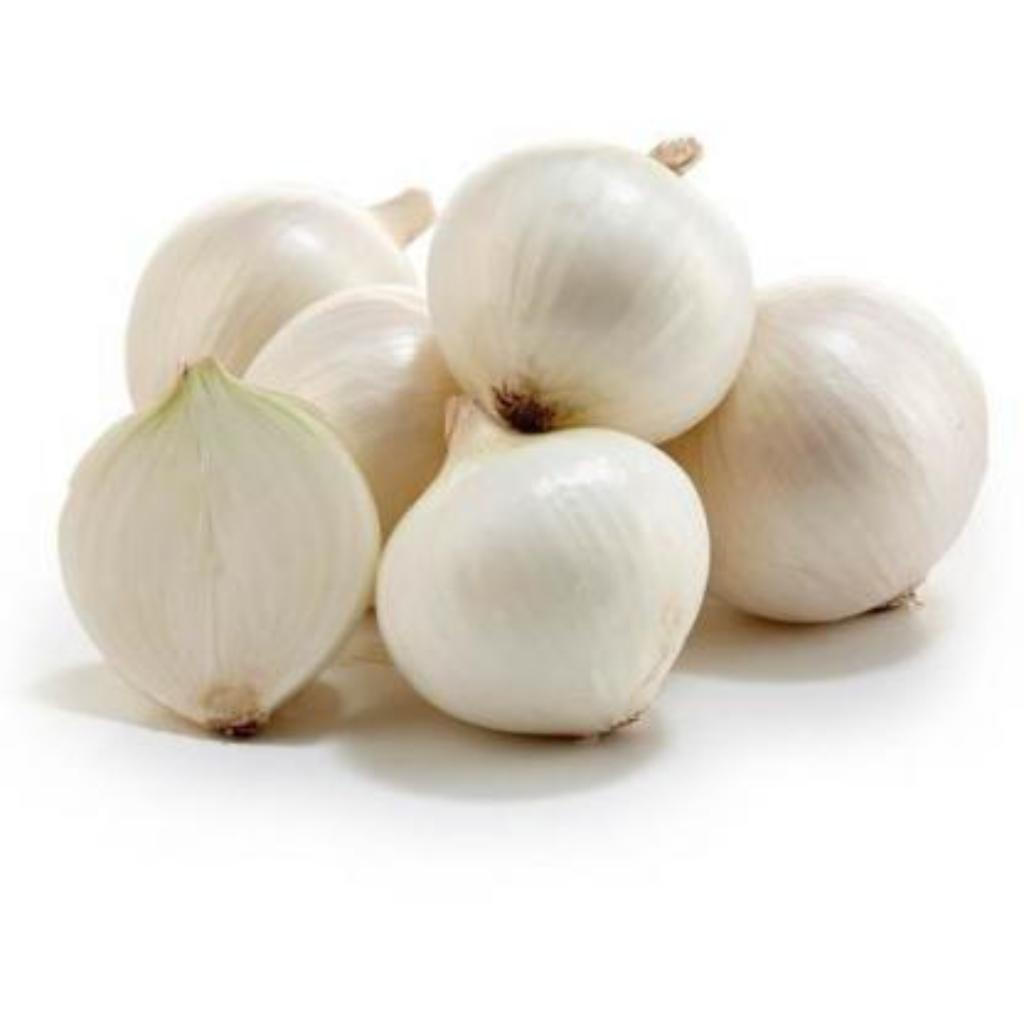Onion: (377, 404, 711, 736), (670, 278, 990, 623), (428, 138, 756, 442), (126, 194, 412, 410), (244, 286, 458, 535)
